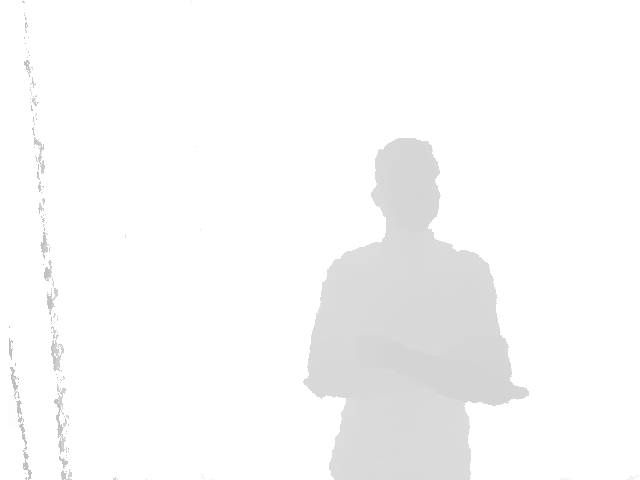head: (371, 138, 440, 229)
person: (301, 137, 530, 480)
